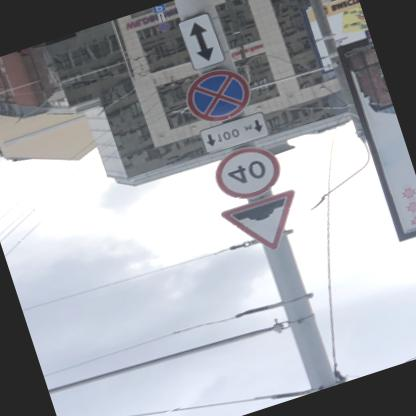speedlimit: (207, 140, 286, 209)
